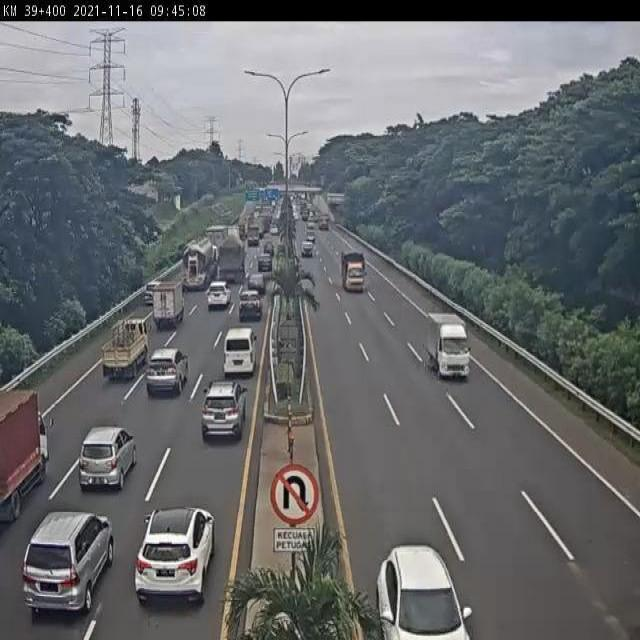car: (23, 514, 115, 614), (134, 507, 215, 605), (79, 426, 136, 490), (200, 380, 245, 447), (146, 348, 189, 396), (224, 329, 257, 376), (238, 291, 264, 320), (206, 283, 230, 313), (246, 270, 268, 294), (143, 283, 160, 305)
small truck: (0, 388, 46, 519), (427, 309, 470, 379), (101, 321, 148, 379), (152, 279, 183, 329)
truck-l-: (217, 238, 247, 282)
truck-m-: (341, 249, 367, 296)
truck-xl-: (180, 239, 214, 289)
